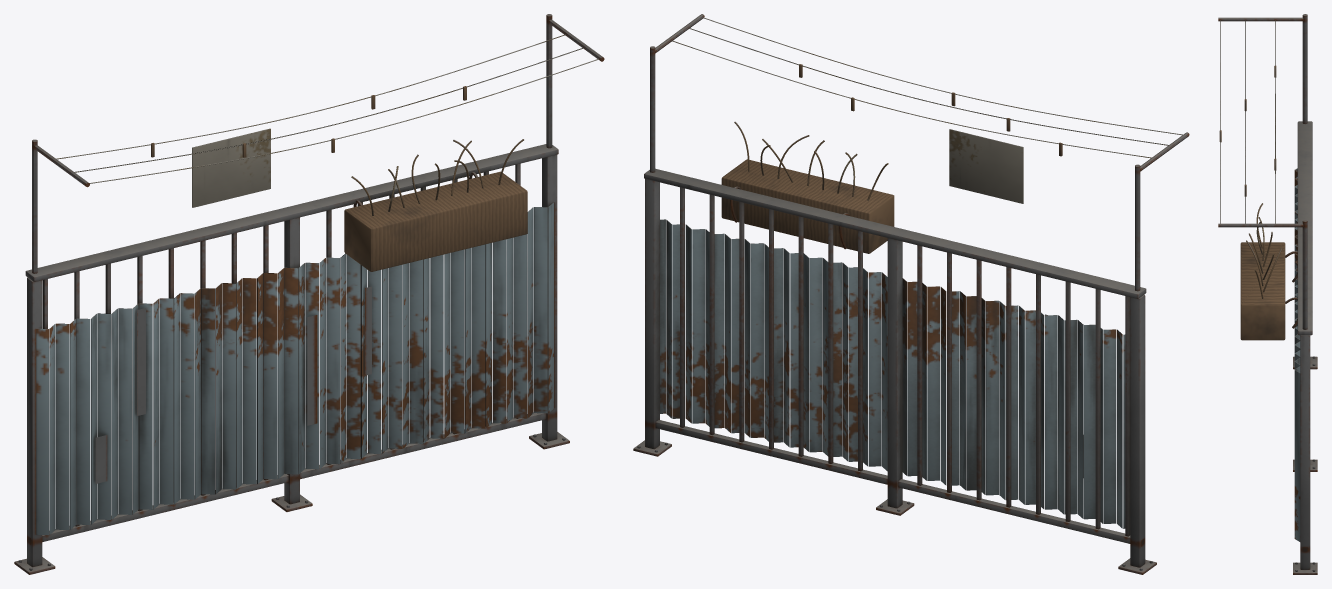
The model's file is SM_BalconyRailing.fbx.
The picture shows the model from 3 angles, left to right: view 1: azimuth 30°, elevation 25°; view 2: azimuth 150°, elevation 25°; view 3: azimuth 270°, elevation 25°; orthographic projection. The views are drawn at different scales.
Visible parts, largest first — view 1: SM_BalconyRailing; view 2: SM_BalconyRailing; view 3: SM_BalconyRailing.
Part boxes in pixels (x1=…): SM_BalconyRailing: x1=14, y1=14, x2=604, y2=574; SM_BalconyRailing: x1=633, y1=14, x2=1189, y2=574; SM_BalconyRailing: x1=1218, y1=14, x2=1317, y2=574.
Bounding box in the file's own units: 2.06 × 1.55 × 0.4.
Materials: 1 (1 with a texture image).
